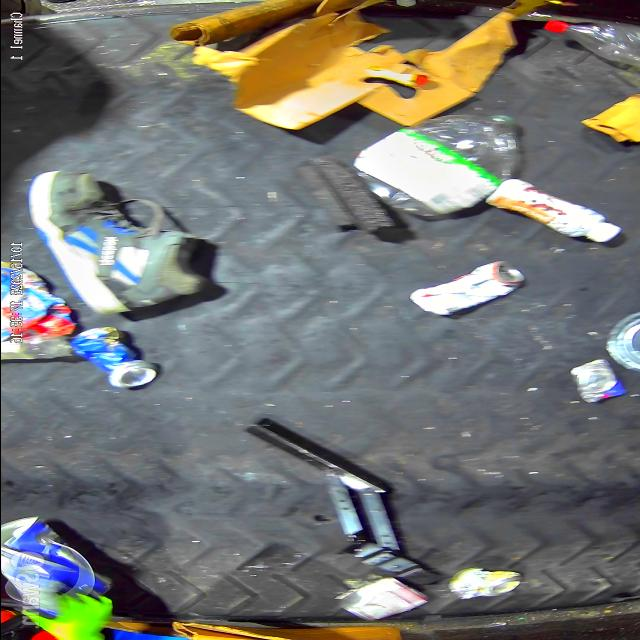can: (406, 258, 524, 316), (67, 326, 163, 388)
plastic_bottle: (354, 108, 522, 218), (486, 182, 614, 248), (532, 18, 640, 70)
